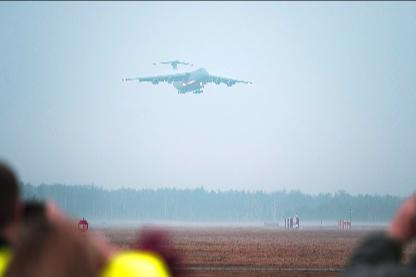C17: (121, 59, 253, 93)
